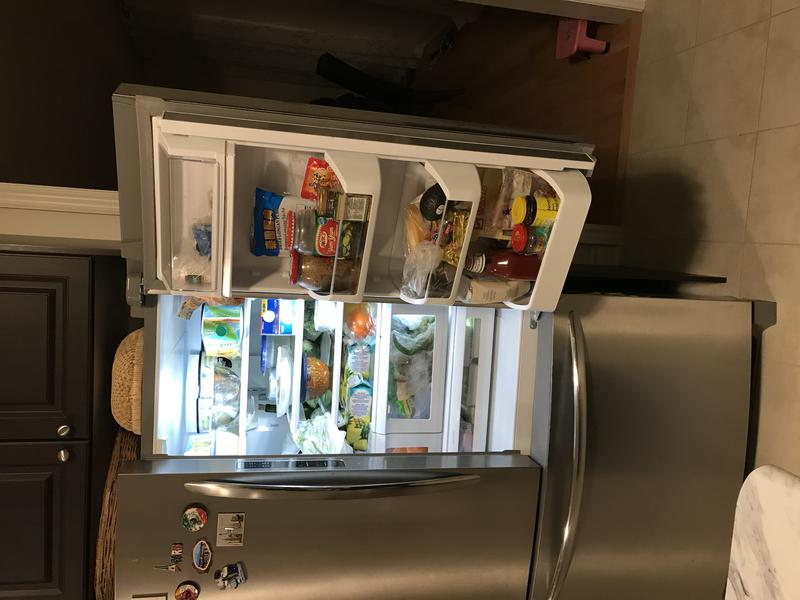avacado: (409, 179, 456, 225)
